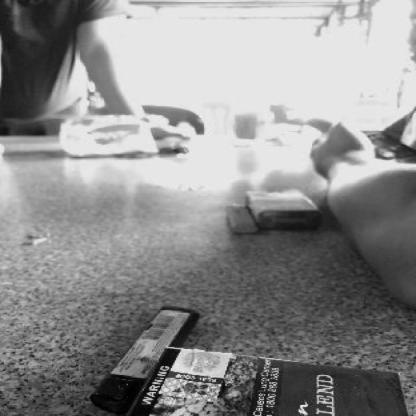objects: (126, 348, 410, 416), (246, 189, 322, 230)
